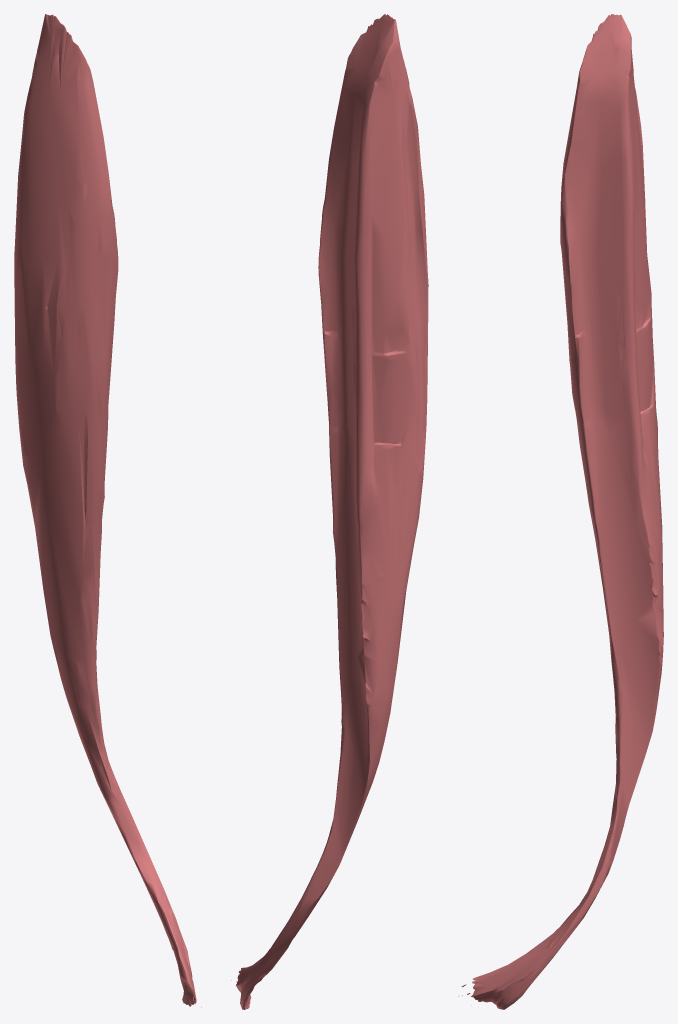
3 views of the same model, side by side, from view 1: azimuth 30°, elevation 25°; view 2: azimuth 210°, elevation 25°; view 3: azimuth 270°, elevation 25° (orthographic). The views are drawn at different scales.
Visible parts, largest first — view 1: FJ1439; view 2: FJ1439; view 3: FJ1439.
Boxes of the visible parts, x1,y1,x2,y2 form: FJ1439: (14,14,201,1007); FJ1439: (231,14,428,1009); FJ1439: (458,14,663,1009).
Size of the model in its own units: 0.0495 by 0.3907 by 0.0764.
